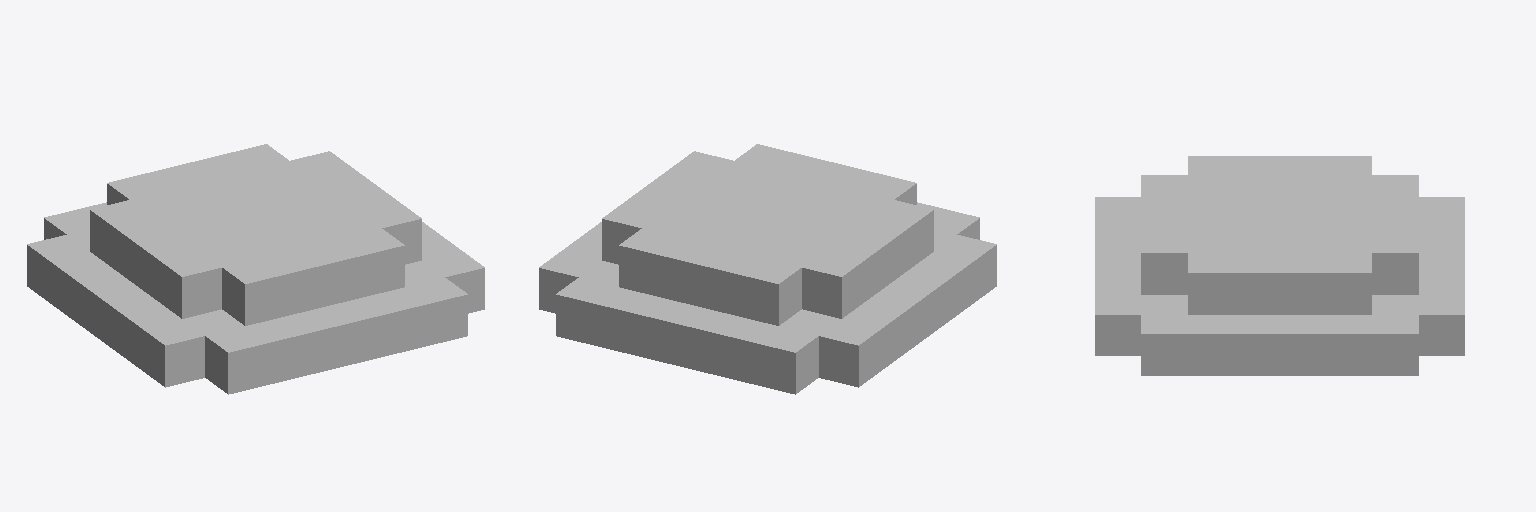
The model's file is Button.obj.
3 renders of one model, left to right at view 1: azimuth 30°, elevation 25°; view 2: azimuth 150°, elevation 25°; view 3: azimuth 270°, elevation 25°, orthographic.
Visible parts, largest first — view 1: object 1; view 2: object 1; view 3: object 1.
Boxes of the visible parts, x1,y1,x2,y2 form: object 1: [27, 144, 484, 394]; object 1: [539, 144, 996, 394]; object 1: [1095, 156, 1464, 375].
Bounding box in the file's own units: 0.8 × 0.2 × 0.8.